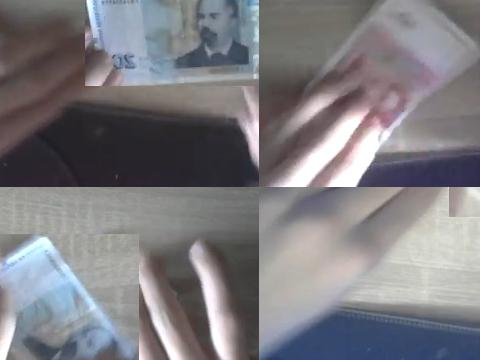20leva: (0, 234, 139, 360)
5leva: (259, 0, 480, 187)
